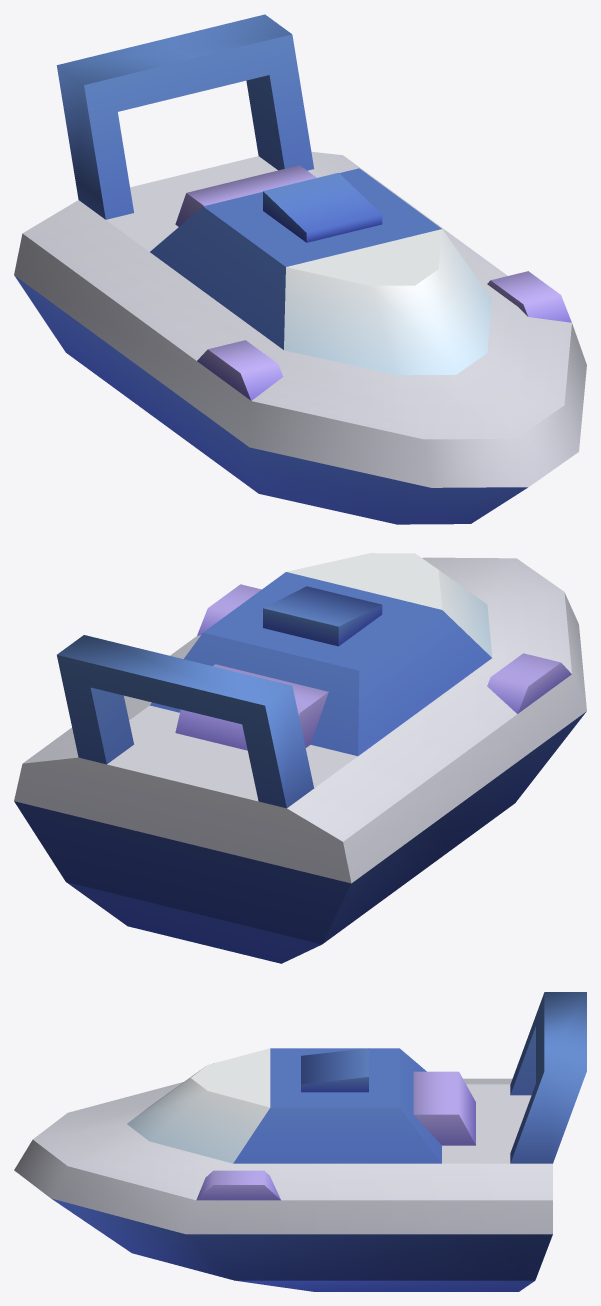
Rendered from sh-speed.glb.
3 views of the same model, one above another, from view 1: azimuth 30°, elevation 25°; view 2: azimuth 150°, elevation 25°; view 3: azimuth 270°, elevation 25° (orthographic). The views are drawn at different scales.
Parts seen in each view (by area): view 1: boat-speed-a; view 2: boat-speed-a; view 3: boat-speed-a.
Boxes of the visible parts, x1=… form: boat-speed-a: x1=14, y1=14, x2=586, y2=524; boat-speed-a: x1=14, y1=553, x2=586, y2=963; boat-speed-a: x1=14, y1=992, x2=586, y2=1291.
Bounding box in the file's own units: 1.78 × 1.5 × 3.37.
Materials: 1 (1 with a texture image).
